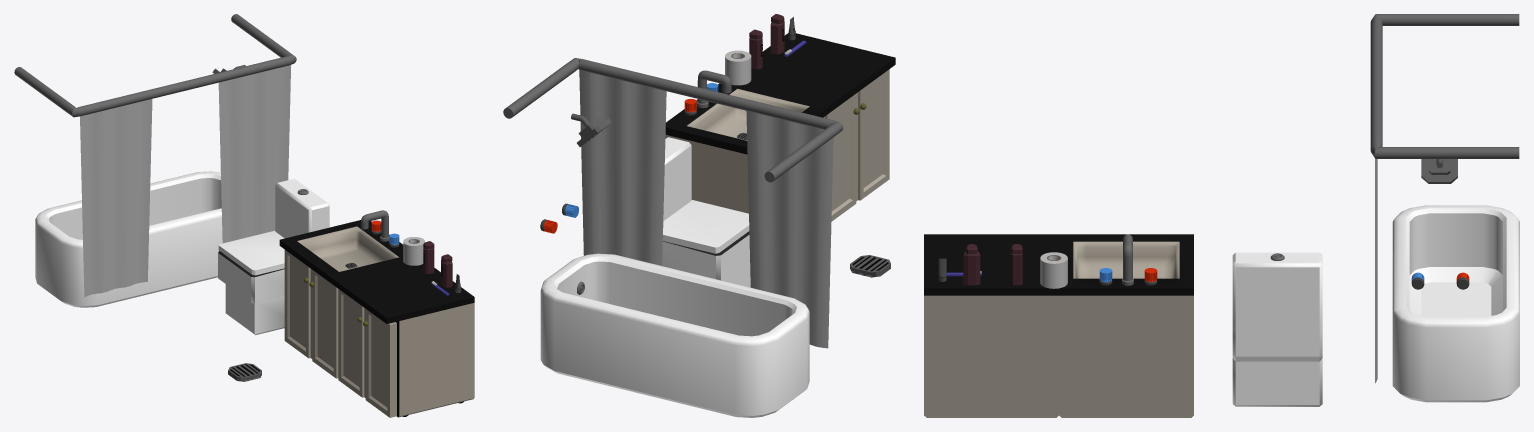
The model's file is BATHROOM SET (2).fbx.
3 renders of one model, left to right at view 1: azimuth 30°, elevation 25°; view 2: azimuth 150°, elevation 25°; view 3: azimuth 270°, elevation 25°, orthographic. The views are drawn at different scales.
Visible parts, largest first — view 1: KITCHEN CABINET.001, TUB, Plane, Plane.001, KITCHEN CABINET, TOILET, Cylinder.006, TOILET PAPER, DRAIN, Cylinder.002; view 2: TUB, Plane, Plane.001, KITCHEN CABINET.001, TOILET, KITCHEN CABINET, Cylinder.006, TOILET PAPER, DRAIN, Cylinder.002, Cylinder.003, Cube.001 (+2 smaller); view 3: TUB, KITCHEN CABINET, KITCHEN CABINET.001, TOILET, Cylinder.006, TOILET PAPER, Cylinder.003, Cube.001, Plane.001.
Boxes of the visible parts, x1,y1,x2,y2 form: KITCHEN CABINET.001: (333,262,474,417); TUB: (35,171,222,307); Plane: (80,99,152,297); Plane.001: (218,65,291,243); KITCHEN CABINET: (279,220,403,378); TOILET: (218,178,329,335); Cylinder.006: (14,14,296,117); TOILET PAPER: (403,237,424,265); DRAIN: (228,363,261,381); Cylinder.002: (361,210,389,241); TUB: (540,253,809,417); Plane: (746,111,833,348); Plane.001: (579,70,666,265); KITCHEN CABINET.001: (747,33,895,221); TOILET: (662,137,750,287); KITCHEN CABINET: (665,83,830,213); Cylinder.006: (503,58,843,182); TOILET PAPER: (725,50,751,85); DRAIN: (850,255,890,277); Cylinder.002: (697,70,731,108); Cylinder.003: (571,113,611,146); Cube.001: (770,14,784,54); TUB: (1392,205,1519,402); KITCHEN CABINET: (1059,234,1193,417); KITCHEN CABINET.001: (924,234,1058,417); TOILET: (1232,252,1322,406); Cylinder.006: (1370,14,1519,158); TOILET PAPER: (1040,252,1067,288); Cylinder.003: (1421,159,1457,183); Cube.001: (963,244,980,285); Plane.001: (1375,158,1377,383).
Bounding box in the file's own units: 727 × 677 × 1324.
